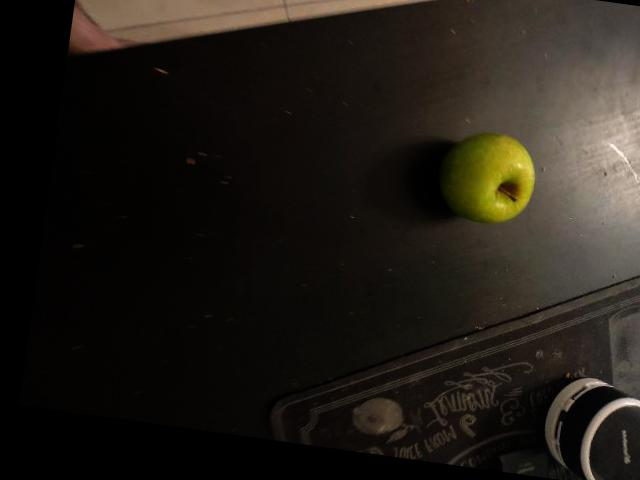apple: (429, 193, 545, 319)
